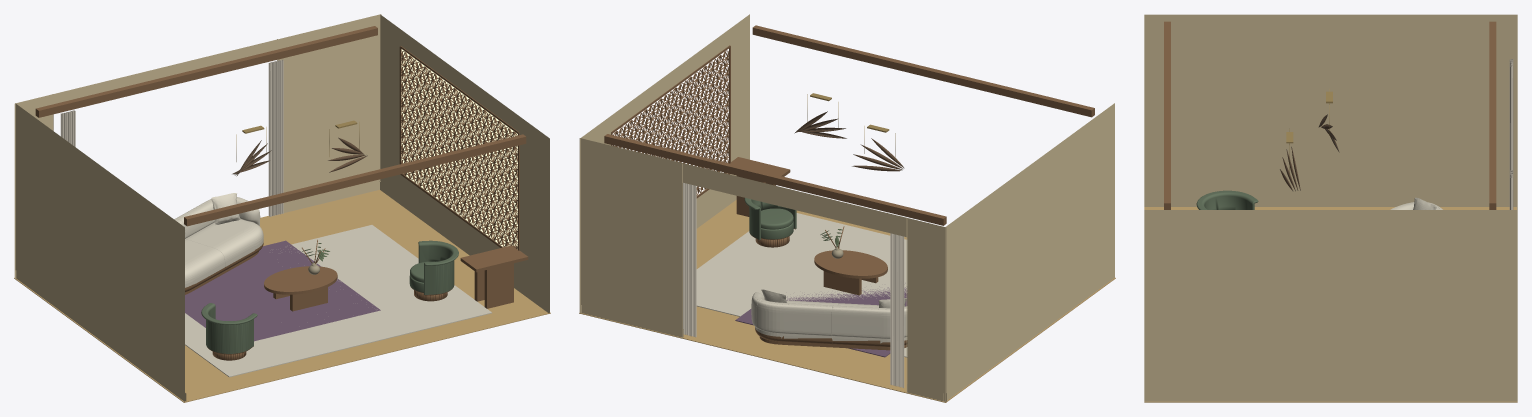
Rendered from great-2.glb.
The picture shows the model from 3 angles, left to right: view 1: azimuth 30°, elevation 25°; view 2: azimuth 150°, elevation 25°; view 3: azimuth 270°, elevation 25°; orthographic projection. The views are drawn at different scales.
Visible parts, largest first — view 1: DESIGN | great removable wall finish, DESIGN | Great room primary ground, DESIGN | great floor finish, DESIGN | Kumiko | Long luminous room backdrop, DESIGN | Secondary occupied textile field, DESIGN | Long luminous room backdrop diffuse backing, DESIGN | Great room sofa facing conversation, DESIGN | Garden salon perimeter timber, DESIGN | Garden salon perimeter timber.001, DESIGN | Required Bellustar swivel chair one, DESIGN | Great room soft window edge.001, DESIGN | Required Bellustar swivel chair two (+6 smaller); view 2: DESIGN | great removable wall finish, DESIGN | Great room primary ground, DESIGN | great floor finish, DESIGN | Kumiko | Long luminous room backdrop, DESIGN | Great room sofa facing conversation, DESIGN | Long luminous room backdrop diffuse backing, DESIGN | Garden salon perimeter timber.001, DESIGN | Garden salon perimeter timber, DESIGN | Great room soft window edge, DESIGN | Great room soft window edge.001, DESIGN | Required Bellustar swivel chair one, DESIGN | Great room conversation table top (+5 smaller); view 3: DESIGN | great removable wall finish, DESIGN | Garden salon perimeter timber.001, DESIGN | great floor finish, DESIGN | Garden salon perimeter timber, DESIGN | Required Bellustar swivel chair two, DESIGN | Great room soft window edge, DESIGN | Great room sofa facing conversation, DESIGN | Required Flou pendant 2.
Boxes of the visible parts, x1=… form: DESIGN | great removable wall finish: x1=14, y1=14, x2=549, y2=401; DESIGN | Great room primary ground: x1=185, y1=225, x2=491, y2=377; DESIGN | great floor finish: x1=14, y1=190, x2=550, y2=402; DESIGN | Kumiko | Long luminous room backdrop: x1=399, y1=46, x2=519, y2=250; DESIGN | Secondary occupied textile field: x1=185, y1=240, x2=380, y2=341; DESIGN | Long luminous room backdrop diffuse backing: x1=401, y1=49, x2=517, y2=246; DESIGN | Great room sofa facing conversation: x1=174, y1=193, x2=263, y2=294; DESIGN | Garden salon perimeter timber: x1=184, y1=134, x2=526, y2=226; DESIGN | Garden salon perimeter timber.001: x1=35, y1=26, x2=377, y2=117; DESIGN | Required Bellustar swivel chair one: x1=409, y1=240, x2=458, y2=301; DESIGN | Great room soft window edge.001: x1=268, y1=59, x2=283, y2=216; DESIGN | Required Bellustar swivel chair two: x1=201, y1=303, x2=257, y2=360; DESIGN | great removable wall finish: x1=579, y1=14, x2=1114, y2=401; DESIGN | Great room primary ground: x1=696, y1=213, x2=907, y2=357; DESIGN | great floor finish: x1=579, y1=200, x2=1115, y2=402; DESIGN | Kumiko | Long luminous room backdrop: x1=611, y1=45, x2=730, y2=198; DESIGN | Great room sofa facing conversation: x1=751, y1=289, x2=907, y2=350; DESIGN | Long luminous room backdrop diffuse backing: x1=612, y1=49, x2=728, y2=194; DESIGN | Garden salon perimeter timber.001: x1=604, y1=134, x2=946, y2=225; DESIGN | Garden salon perimeter timber: x1=752, y1=25, x2=1094, y2=117; DESIGN | Great room soft window edge: x1=890, y1=233, x2=904, y2=387; DESIGN | Great room soft window edge.001: x1=683, y1=182, x2=696, y2=337; DESIGN | Required Bellustar swivel chair one: x1=744, y1=198, x2=796, y2=247; DESIGN | Great room conversation table top: x1=814, y1=250, x2=887, y2=278; DESIGN | great removable wall finish: x1=1144, y1=14, x2=1517, y2=401; DESIGN | Garden salon perimeter timber.001: x1=1489, y1=21, x2=1496, y2=209; DESIGN | great floor finish: x1=1144, y1=207, x2=1517, y2=402; DESIGN | Garden salon perimeter timber: x1=1164, y1=21, x2=1170, y2=209; DESIGN | Required Bellustar swivel chair two: x1=1196, y1=190, x2=1258, y2=209; DESIGN | Great room soft window edge: x1=1509, y1=59, x2=1513, y2=170; DESIGN | Great room sofa facing conversation: x1=1390, y1=197, x2=1442, y2=209; DESIGN | Required Flou pendant 2: x1=1280, y1=146, x2=1300, y2=191.
Bounding box in the file's own units: 6 × 2.74 × 4.82.
